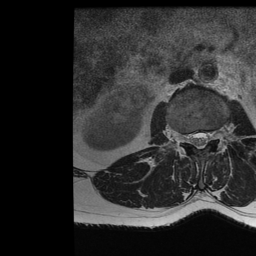CCS_normal: (196, 123, 203, 156)
LFS_normal: (210, 124, 217, 145)
LLS_normal: (203, 124, 210, 150)
RFS_normal: (181, 124, 189, 149)
RLS_normal: (189, 124, 196, 150)
